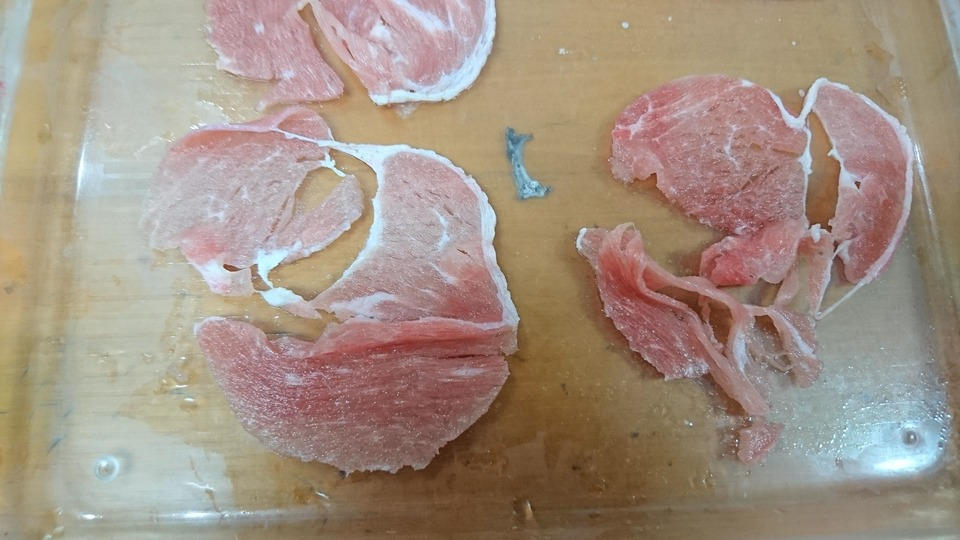restructured meat: (146, 108, 534, 466), (575, 74, 919, 424), (203, 1, 515, 100)
